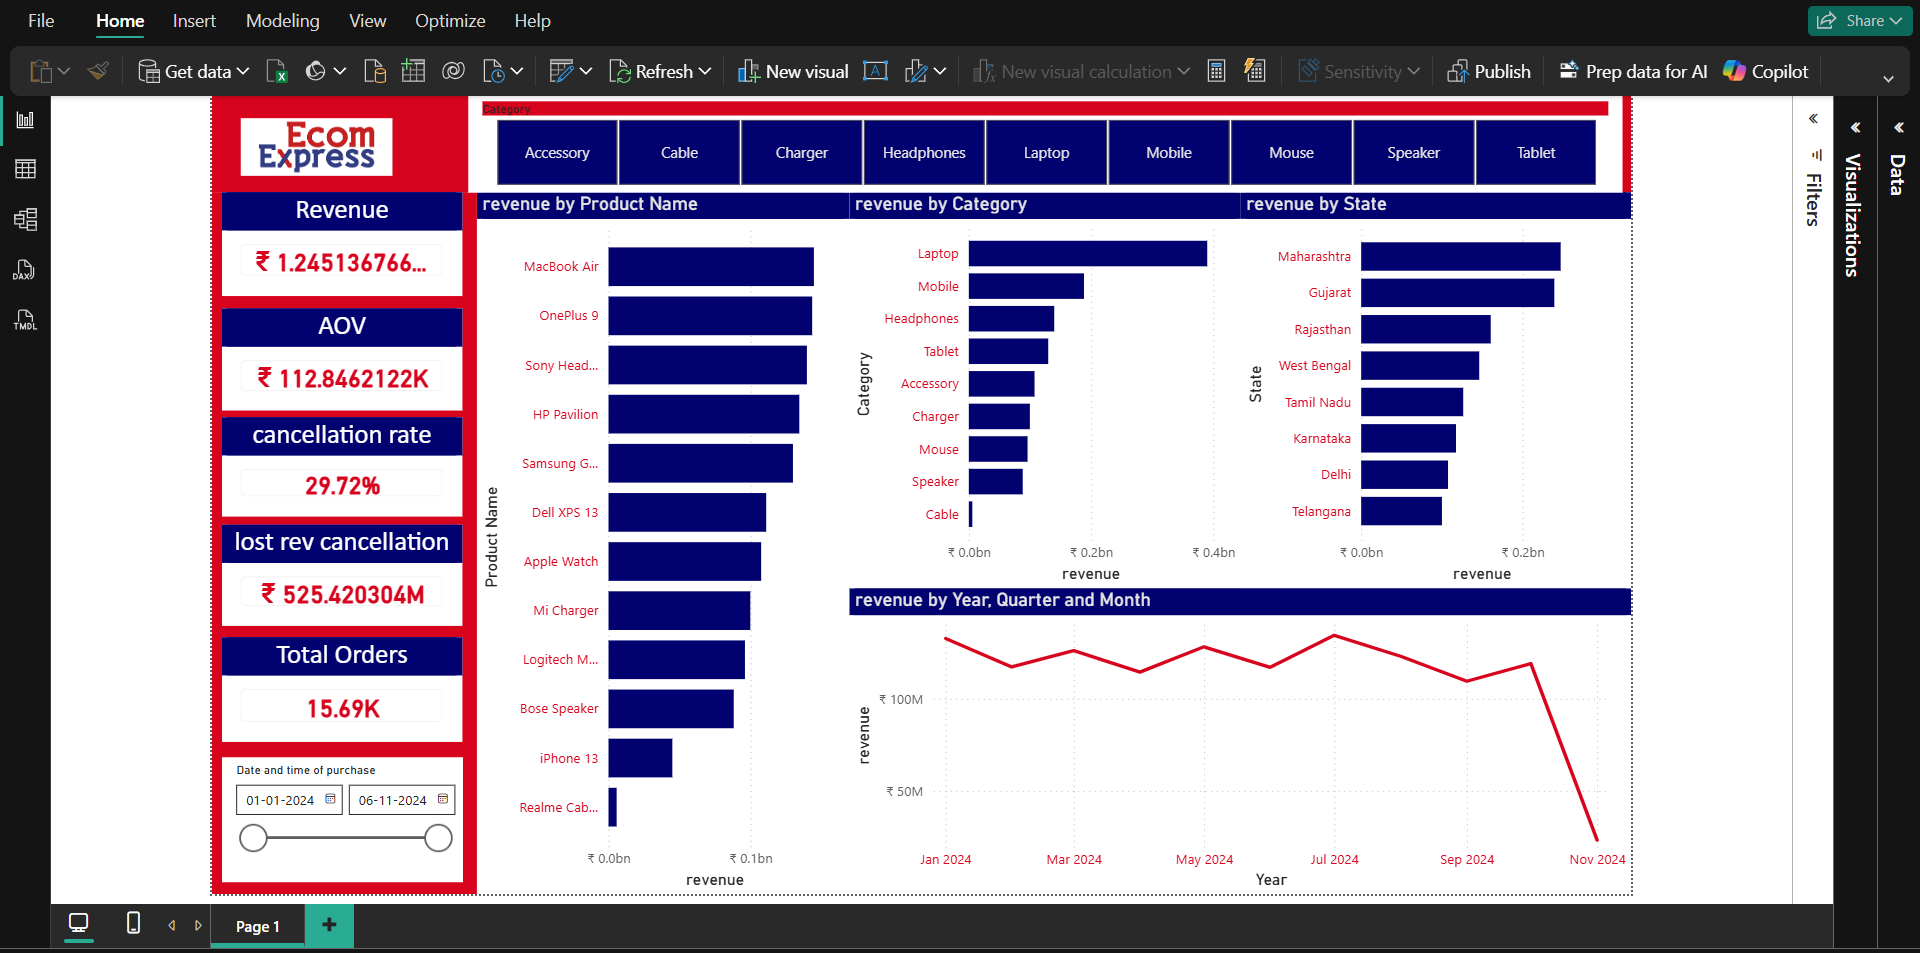

What the dashboard file says about the page in this screenshot:
{"tool":"powerbi","page":{"name":"Page 1","canvas":[1280,720],"ordinal":0},"visuals":[{"type":"shape","box":[0,0,1280,87.1],"z":0},{"type":"shape","box":[0,87.1,238.8,633.2],"z":1000},{"type":"image","box":[26.1,0,136.8,92.1],"z":2000},{"type":"clusteredBarChart","fields":{"Y":["Table.revenue"],"Category":["Products.Product Name"]},"box":[238.8,87.1,335.9,633.2],"z":3000},{"type":"clusteredBarChart","fields":{"Y":["Table.revenue"],"Category":["Products.Category"]},"box":[574.7,87.1,353.3,357],"z":4000},{"type":"lineChart","fields":{"Category":["Orders.Date and time of purchase.Variation.Date Hierarchy.Year","Orders.Date and time of purchase.Variation.Date Hierarchy.Quarter","Orders.Date and time of purchase.Variation.Date Hierarchy.Month","Orders.Date and time of purchase.Variation.Date Hierarchy.Day"],"Y":["Table.revenue"]},"box":[574.7,444.1,705.3,276.2],"z":5000},{"type":"barChart","fields":{"Y":["Table.revenue"],"Category":["Customers.State"]},"box":[928,87.1,352,357],"z":6000},{"type":"slicer","fields":{"Values":["Products.Category"]},"box":[231.4,0,1041.2,87.1],"z":7000},{"type":"cardVisual","title":"Revenue","fields":{"Data":["Table.revenue"]},"box":[8.7,87.1,216.4,93.3],"z":8000},{"type":"cardVisual","title":"AOV","fields":{"Data":["Table.AOV"]},"box":[8.7,191.6,216.4,92.1],"z":9000},{"type":"cardVisual","title":"cancellation rate","fields":{"Data":["Table.cancellation rate"]},"box":[8.7,289.8,216.4,89.6],"z":10000},{"type":"cardVisual","title":"lost rev cancellation","fields":{"Data":["Table.lost_rev_cancellation"]},"box":[8.7,386.9,216.4,90.8],"z":11000},{"type":"cardVisual","title":"Total Orders ","fields":{"Data":["CountNonNull(Orders.OrderID)"]},"box":[8.7,487.6,216.4,94.5],"z":12000},{"type":"slicer","fields":{"Values":["Orders.Date and time of purchase"]},"box":[8.7,595.9,216.4,112],"z":13000}]}

Visuals, with their boxes on the page's 1280x720 design canvas (x1, y1, x2, y2). These are canvas units, not pixel positions in the 1920x953 screenshot, which may show the page scaled, cropped or inside an application window:
shape: [left=0, top=0, right=1280, bottom=87]
shape: [left=0, top=87, right=239, bottom=720]
image: [left=26, top=0, right=163, bottom=92]
clusteredBarChart - Table.revenue x Products.Product Name: [left=239, top=87, right=575, bottom=720]
clusteredBarChart - Table.revenue x Products.Category: [left=575, top=87, right=928, bottom=444]
lineChart - Orders.Date and time of purchase.Variation.Date Hierarchy.Year x Orders.Date and time of purchase.Variation.Date Hierarchy.Quarter: [left=575, top=444, right=1280, bottom=720]
barChart - Table.revenue x Customers.State: [left=928, top=87, right=1280, bottom=444]
slicer - Products.Category: [left=231, top=0, right=1273, bottom=87]
"Revenue" cardVisual: [left=9, top=87, right=225, bottom=180]
"AOV" cardVisual: [left=9, top=192, right=225, bottom=284]
"cancellation rate" cardVisual: [left=9, top=290, right=225, bottom=379]
"lost rev cancellation" cardVisual: [left=9, top=387, right=225, bottom=478]
"Total Orders " cardVisual: [left=9, top=488, right=225, bottom=582]
slicer - Orders.Date and time of purchase: [left=9, top=596, right=225, bottom=708]
